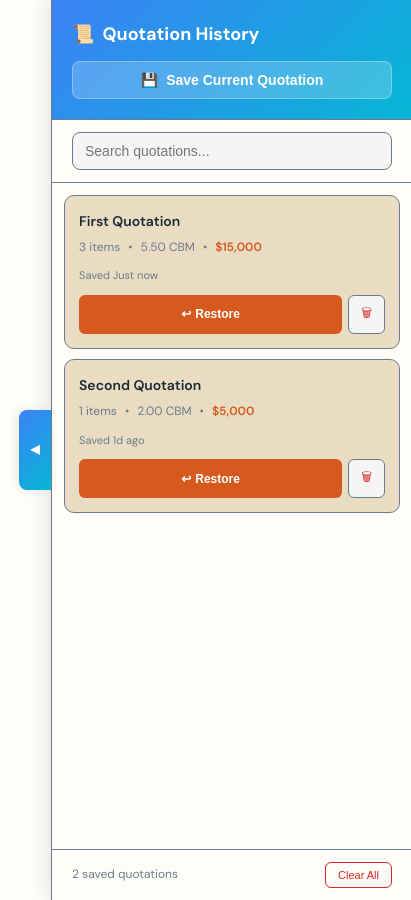
Test case: HistoryPanel › search functionality › should filter history by search term
This screenshot has width=411, height=900.
Type "First" into the field with placeholder "Search quotations..." at (232, 151), box [72, 132, 392, 170]
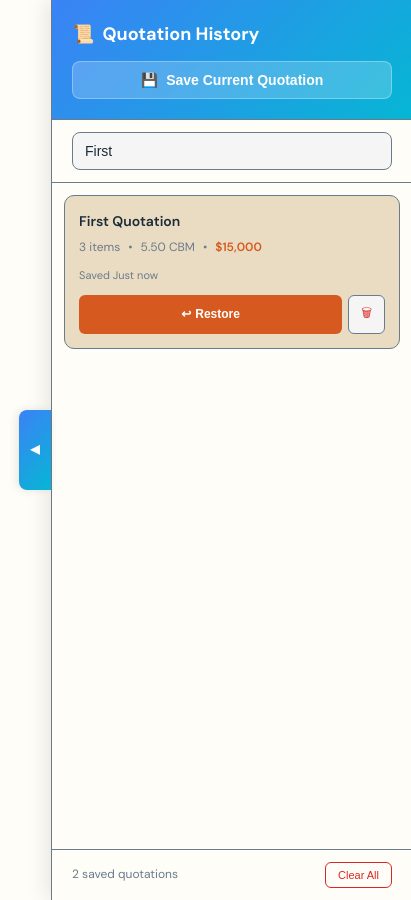
Expected: the text "First Quotation" is shown, [79, 212, 180, 230]
Expected: the text "Second Quotation" is gone
